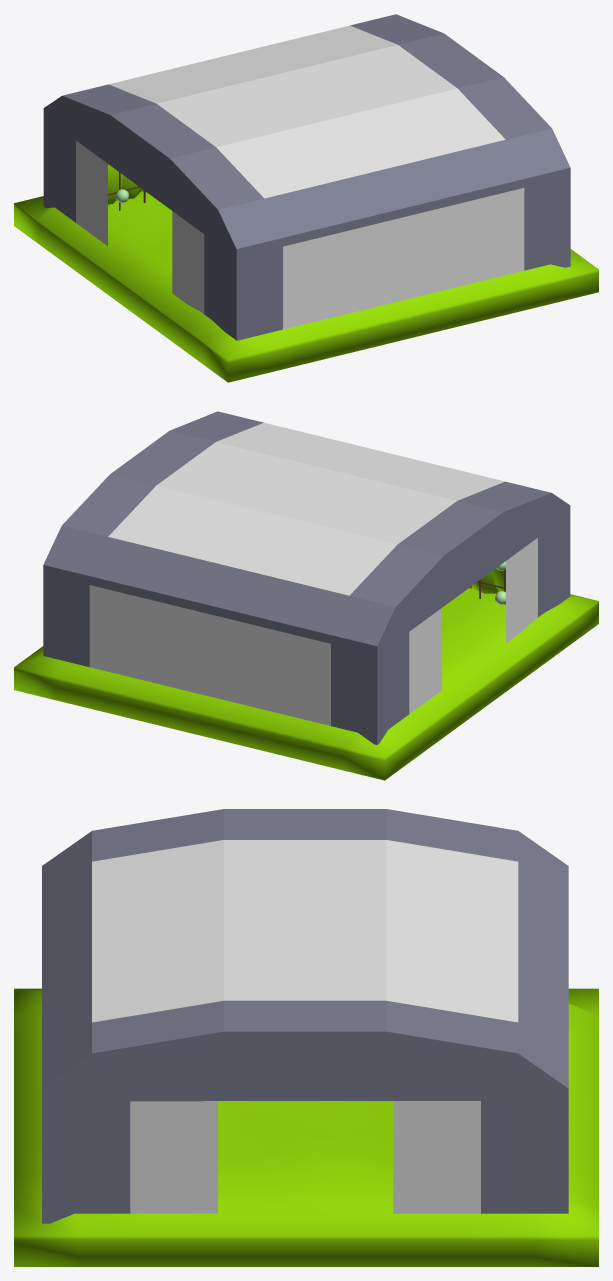
File: TheMelonFarm.fbx
The picture shows the model from 3 angles, top to bottom: view 1: azimuth 30°, elevation 25°; view 2: azimuth 150°, elevation 25°; view 3: azimuth 270°, elevation 25°; orthographic projection. The views are drawn at different scales.
Visible parts, largest first — view 1: Plane.029, Plane.027, Plane.032; view 2: Plane.029, Plane.027, Plane.030; view 3: Plane.029, Plane.027.
Boxes of the visible parts, <box> form: Plane.029: <box>43,14,570,340</box>; Plane.027: <box>14,191,598,382</box>; Plane.032: <box>64,164,146,210</box>; Plane.029: <box>43,411,570,744</box>; Plane.027: <box>14,588,598,780</box>; Plane.030: <box>469,561,505,604</box>; Plane.029: <box>42,809,568,1223</box>; Plane.027: <box>14,988,598,1266</box>.
Bounding box in the file's own units: 2457 × 1034 × 2457.
